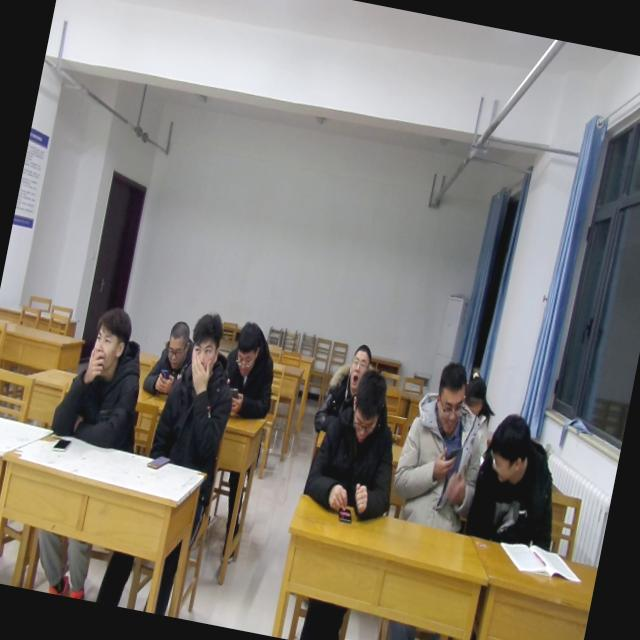bow: (215, 320, 288, 425), (140, 313, 202, 401)
down: (341, 364, 394, 445), (426, 358, 474, 437), (228, 318, 266, 382), (162, 313, 194, 369), (458, 367, 492, 419)
lookup: (84, 302, 138, 380), (184, 306, 228, 379), (343, 339, 374, 390)
sit: (384, 350, 503, 540), (300, 359, 416, 524), (48, 298, 160, 454), (145, 306, 248, 474), (466, 409, 574, 557), (311, 334, 379, 438), (450, 367, 502, 468)
